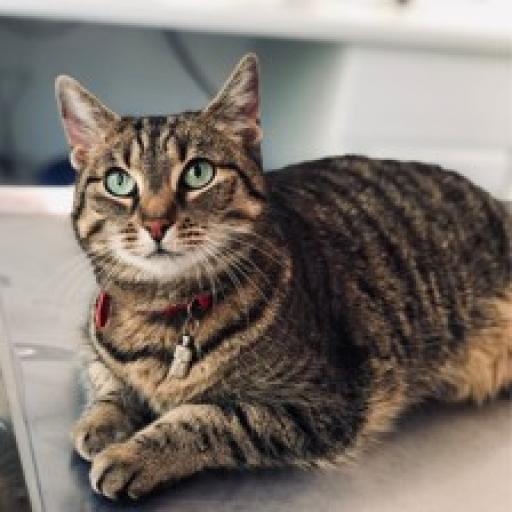cat: (37, 51, 512, 512)
